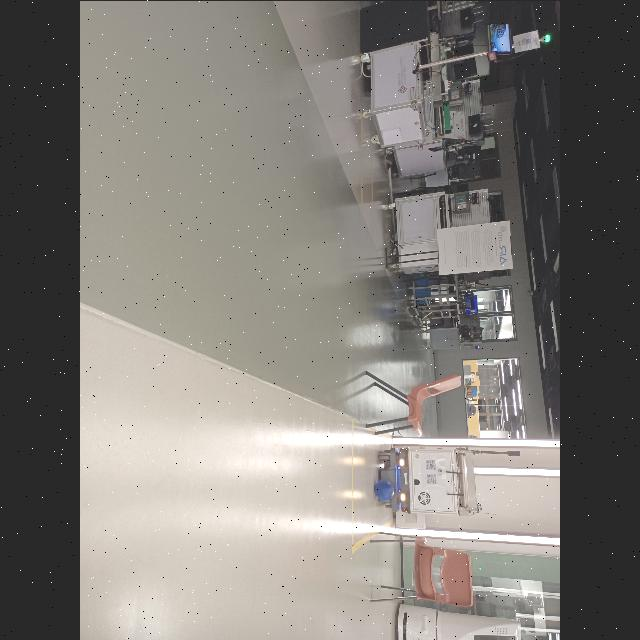B: (373, 478, 392, 499)
